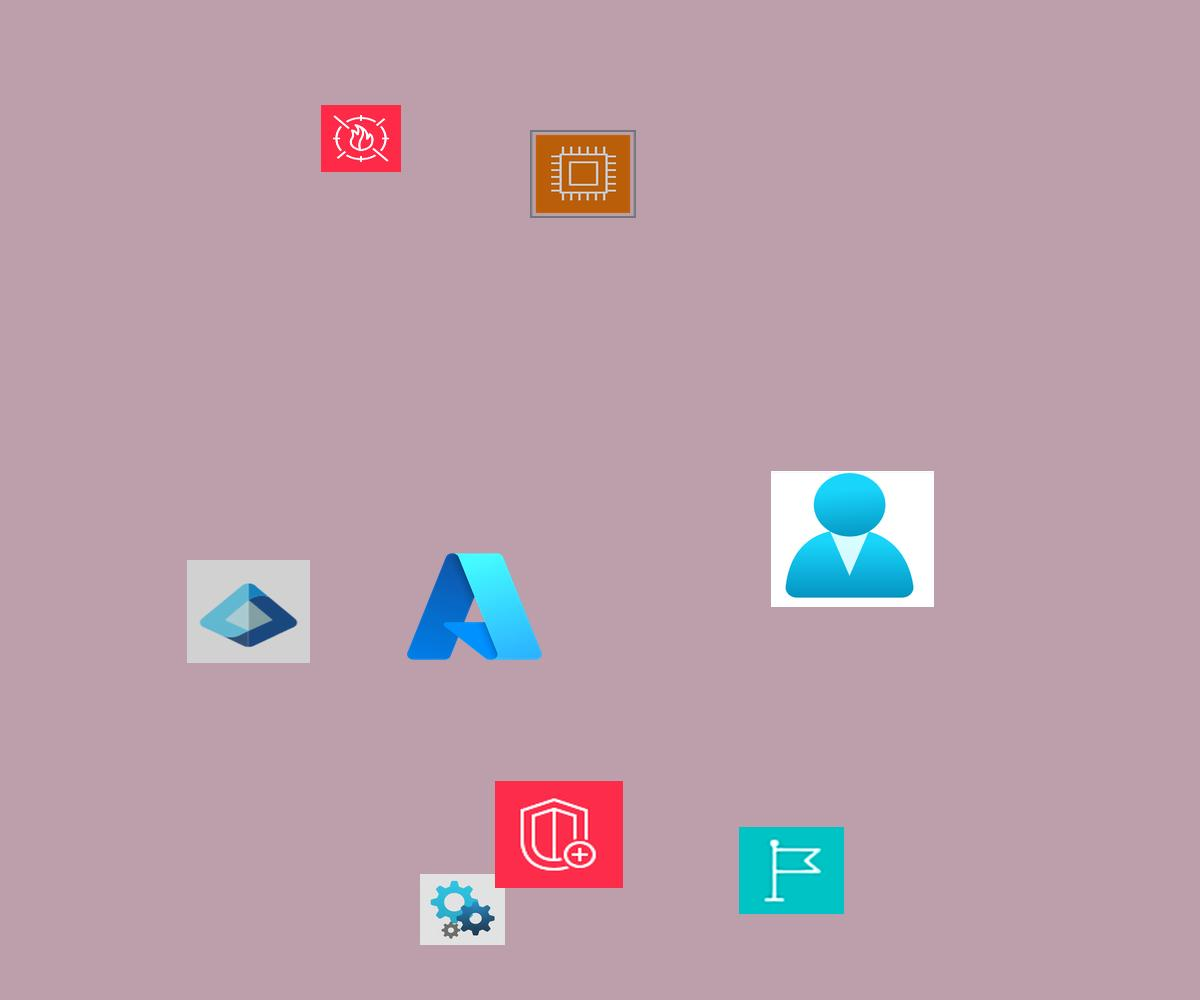AWS-Category_Compute: (530, 130, 636, 218)
AWS-Region: (739, 827, 844, 914)
AWS-Shield: (495, 781, 623, 888)
AWS-WAF: (321, 105, 401, 172)
Azure_api: (420, 874, 505, 945)
Azure_microsoft_entra: (187, 560, 310, 663)
Azure_services: (401, 545, 548, 668)
Azure_users: (771, 471, 934, 607)
